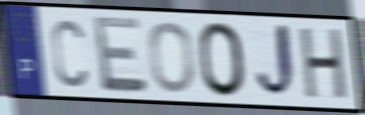C: (49, 17, 90, 90)
E: (90, 14, 150, 95)
H: (299, 26, 349, 103)
J: (252, 21, 299, 103)
O: (196, 19, 249, 99), (147, 20, 197, 95)
